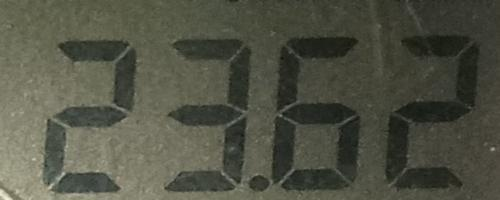.: (247, 174, 270, 198)
